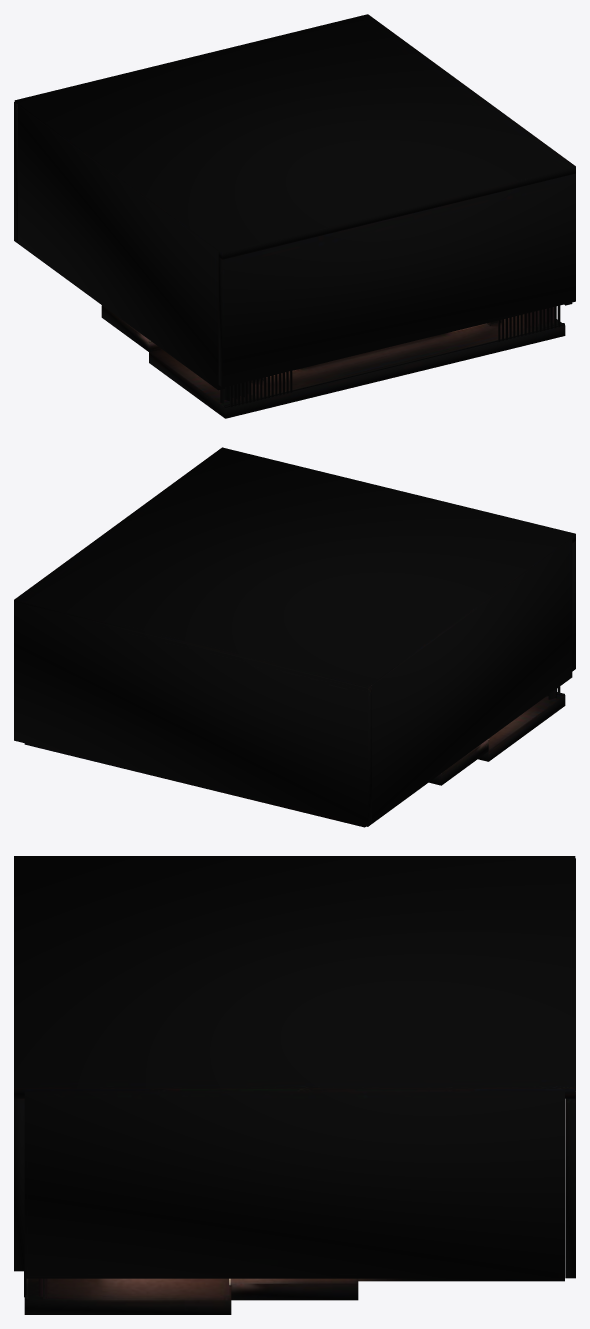
The model's file is hall_lounge_glow.glb.
The picture shows the model from 3 angles, top to bottom: view 1: azimuth 30°, elevation 25°; view 2: azimuth 150°, elevation 25°; view 3: azimuth 270°, elevation 25°; orthographic projection. The views are drawn at different scales.
Visible parts, largest first — view 1: lounge_shell, lounge_screenwall; view 2: lounge_shell; view 3: lounge_shell.
Part boxes in pixels (left/top/right/bottom): lounge_shell: left=14, top=14, right=575, bottom=418; lounge_screenwall: left=220, top=305, right=564, bottom=407; lounge_shell: left=14, top=447, right=575, bottom=827; lounge_shell: left=14, top=856, right=575, bottom=1314.
Bounding box in the file's own units: 10.42 × 4.8 × 10.61.
Materials: 3 (3 with a texture image).
